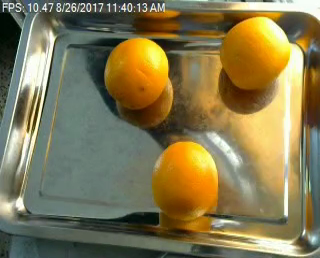Orange: (152, 140, 218, 219), (219, 14, 288, 89), (104, 38, 170, 110)
